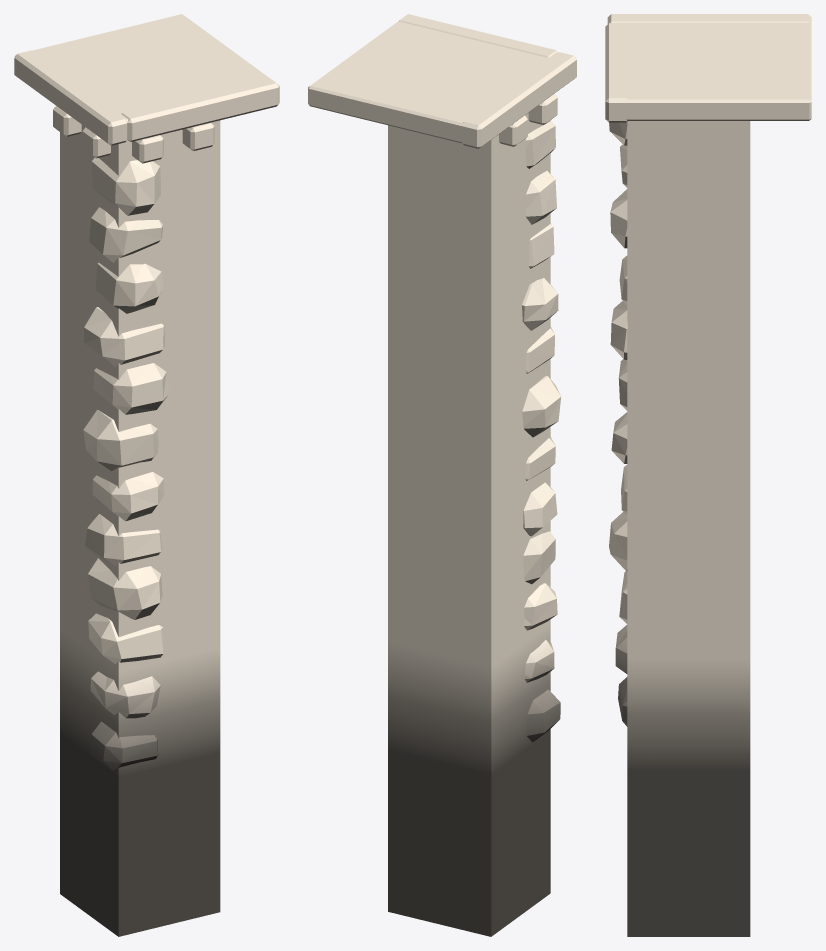
The model's file is SM_VK_TownWall_Corner_In.fbx.
3 views of the same model, side by side, from view 1: azimuth 30°, elevation 25°; view 2: azimuth 150°, elevation 25°; view 3: azimuth 270°, elevation 25° (orthographic). The views are drawn at different scales.
Visible parts, largest first — view 1: SM_VK_TownWall_Corner_In.001; view 2: SM_VK_TownWall_Corner_In.001; view 3: SM_VK_TownWall_Corner_In.001.
Part boxes in pixels (x1,y1,x2,y2): SM_VK_TownWall_Corner_In.001: (14,14,279,936); SM_VK_TownWall_Corner_In.001: (308,14,576,936); SM_VK_TownWall_Corner_In.001: (605,14,811,936).
Bounding box in the file's own units: 1.68 × 7.75 × 1.68.
